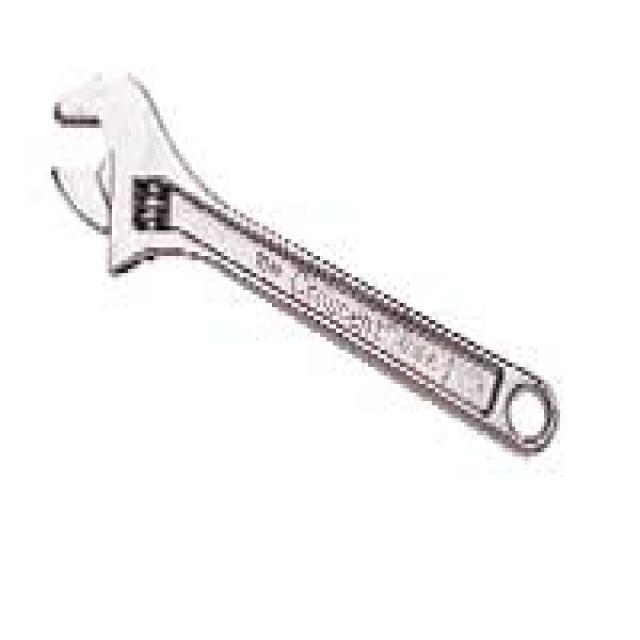wrench: (39, 37, 556, 473)
